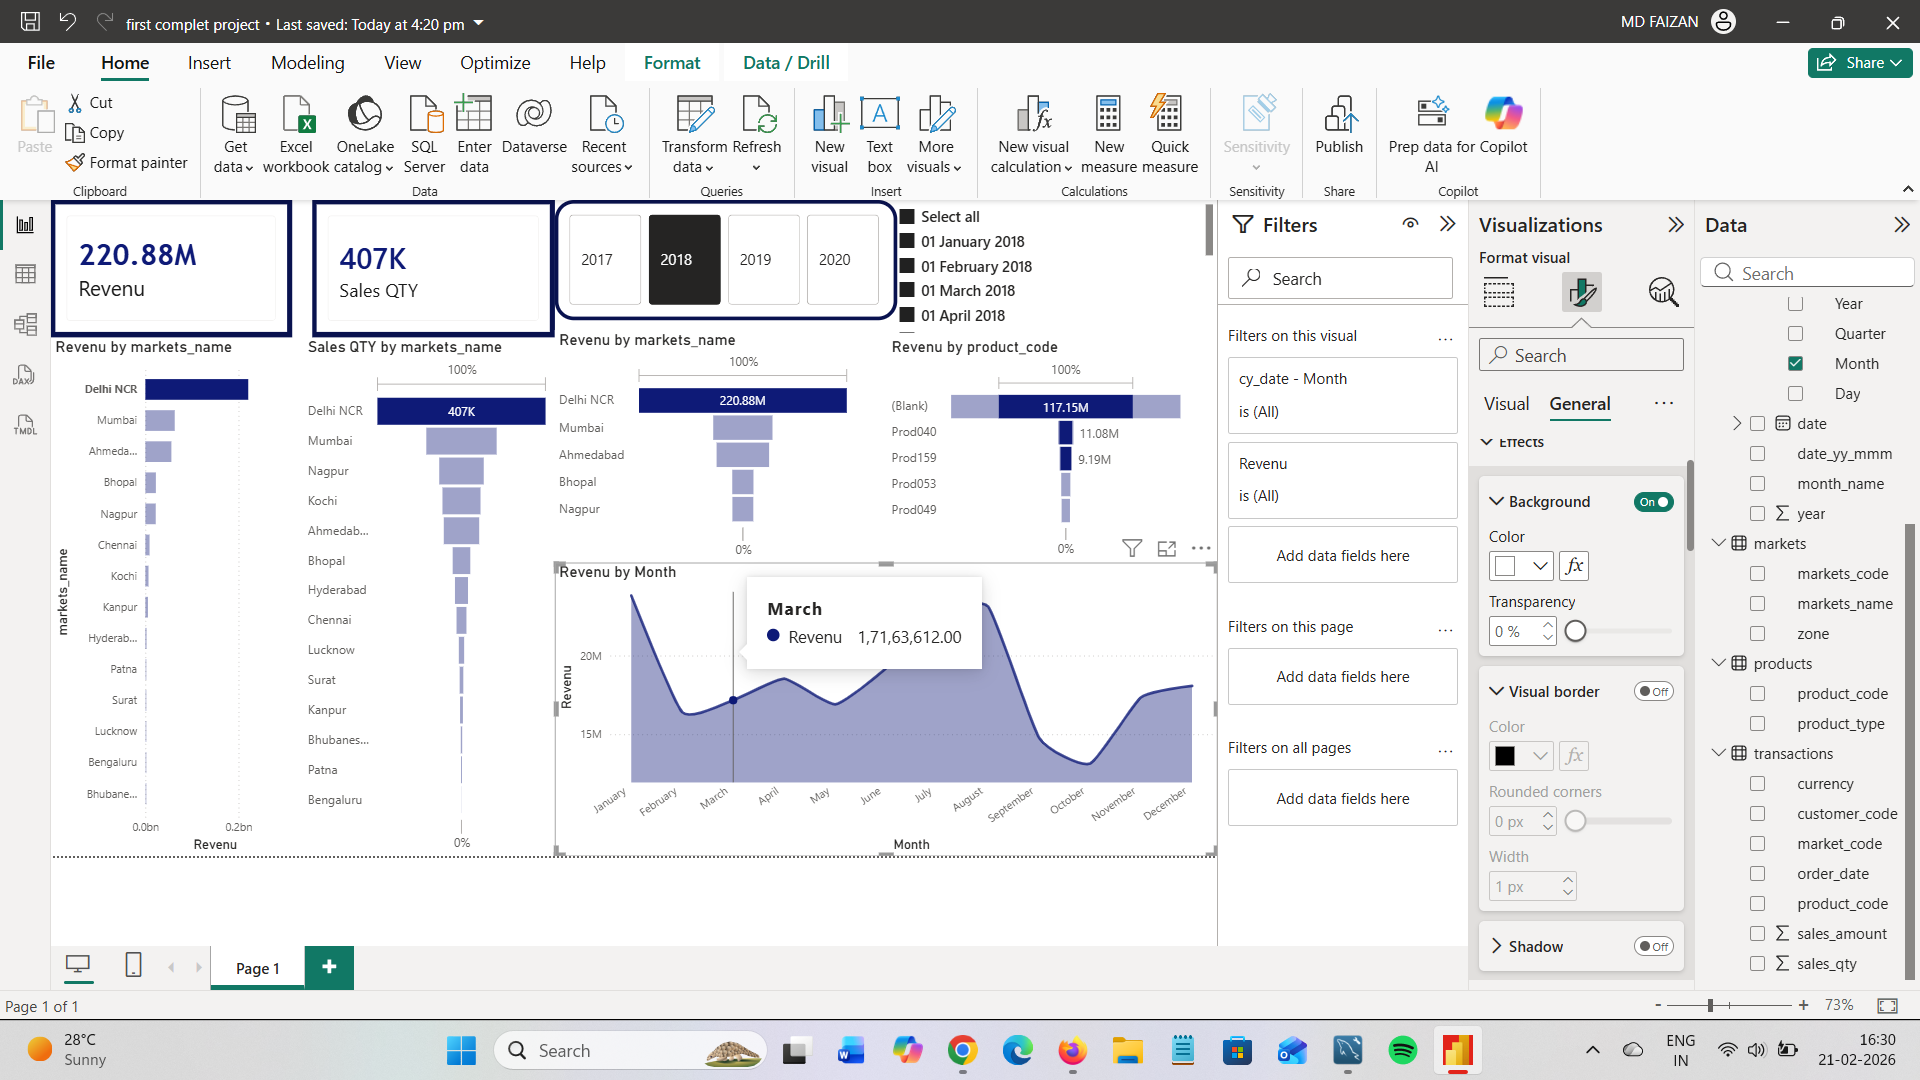

Layout of this report page (visuals, bound fields, positions):
{"tool":"powerbi","page":{"name":"Page 1","canvas":[1280,720],"ordinal":0},"visuals":[{"type":"cardVisual","fields":{"Data":["basemezor.revenu"]},"box":[0,0,264.8,150.9],"z":0},{"type":"cardVisual","fields":{"Data":["basemezor.seles QTY"]},"box":[286.8,0,266.2,150.9],"z":1},{"type":"barChart","fields":{"Category":["markets.markets_name"],"Y":["basemezor.revenu"]},"box":[0,150.9,277.2,569.5],"z":2},{"type":"funnel","fields":{"Y":["basemezor.seles QTY"],"Category":["markets.markets_name"]},"box":[277.2,150.9,275.8,569.5],"z":3},{"type":"slicer","fields":{"Values":["date.cy_date"]},"box":[918,0,362.3,150.9],"z":4},{"type":"advancedSlicerVisual","fields":{"Values":["date.cy_date.Variation.Date Hierarchy.Year"]},"box":[553,0,376,131.7],"z":5},{"type":"funnel","fields":{"Y":["basemezor.revenu"],"Category":["markets.markets_name"]},"box":[553,142.7,330.7,255.2],"z":6},{"type":"funnel","fields":{"Y":["basemezor.revenu"],"Category":["products.product_code"]},"box":[918,150.9,332.1,247],"z":7},{"type":"stackedAreaChart","fields":{"Y":["basemezor.revenu"],"Category":["date.cy_date.Variation.Date Hierarchy.Month"]},"box":[553,397.9,727.3,322.5],"z":8}]}

Visuals, with their boxes on the page's 1280x720 design canvas (x1, y1, x2, y2). These are canvas units, not pixel positions in the 1920x1080 screenshot, which may show the page scaled, cropped or inside an application window:
cardVisual - basemezor.revenu: (x1=0, y1=0, x2=265, y2=151)
cardVisual - basemezor.seles QTY: (x1=287, y1=0, x2=553, y2=151)
barChart - markets.markets_name x basemezor.revenu: (x1=0, y1=151, x2=277, y2=720)
funnel - basemezor.seles QTY x markets.markets_name: (x1=277, y1=151, x2=553, y2=720)
slicer - date.cy_date: (x1=918, y1=0, x2=1280, y2=151)
advancedSlicerVisual - date.cy_date.Variation.Date Hierarchy.Year: (x1=553, y1=0, x2=929, y2=132)
funnel - basemezor.revenu x markets.markets_name: (x1=553, y1=143, x2=884, y2=398)
funnel - basemezor.revenu x products.product_code: (x1=918, y1=151, x2=1250, y2=398)
stackedAreaChart - basemezor.revenu x date.cy_date.Variation.Date Hierarchy.Month: (x1=553, y1=398, x2=1280, y2=720)
